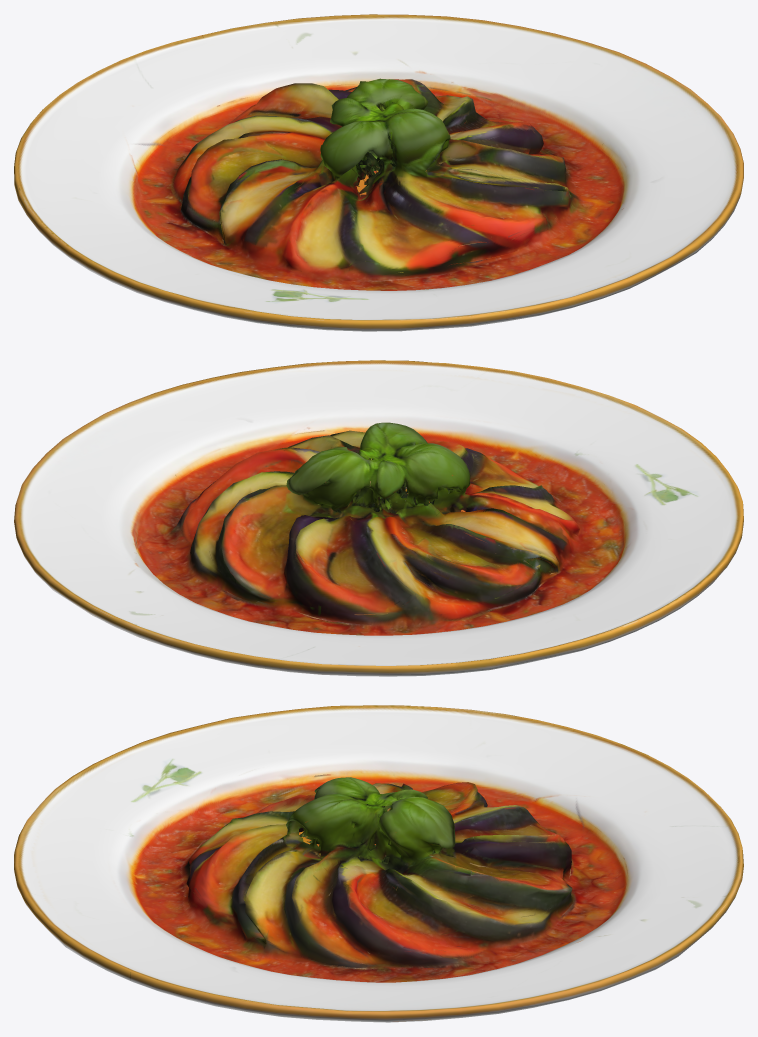
Rendered from Vegetable_Medley_Deli_0516150328_texture.fbx.
3 views of the same model, one above another, from view 1: azimuth 30°, elevation 25°; view 2: azimuth 150°, elevation 25°; view 3: azimuth 270°, elevation 25° (orthographic).
Parts seen in each view (by area): view 1: Mesh1; view 2: Mesh1; view 3: Mesh1.
Part boxes in pixels (<box>): Mesh1: <box>14,14,743,331</box>; Mesh1: <box>14,360,743,676</box>; Mesh1: <box>14,705,743,1022</box>.
Bounding box in the file's own units: 200 × 34.35 × 200.
1 material, 1 textured.
